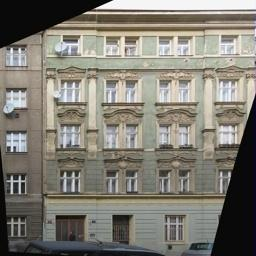building: (46, 2, 256, 251)
